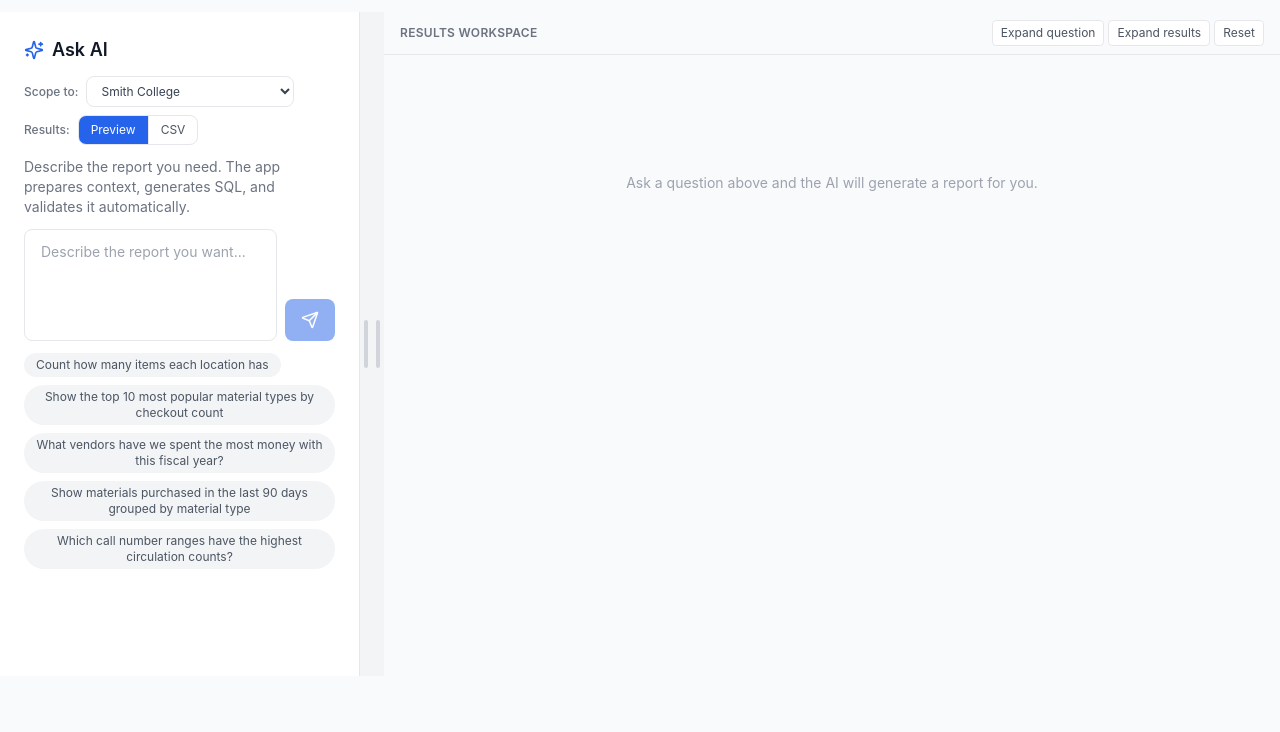
Scenario: Ask request lifecycle › replaces stale success with the typed Retry terminal UI after a rejected 403 response
This screenshot has width=1280, height=732.
Step 1. Type "Show titles" into the text box with placeholder "Describe the report you want..." → (150, 285), box top-left (24, 229), bottom-right (277, 341)
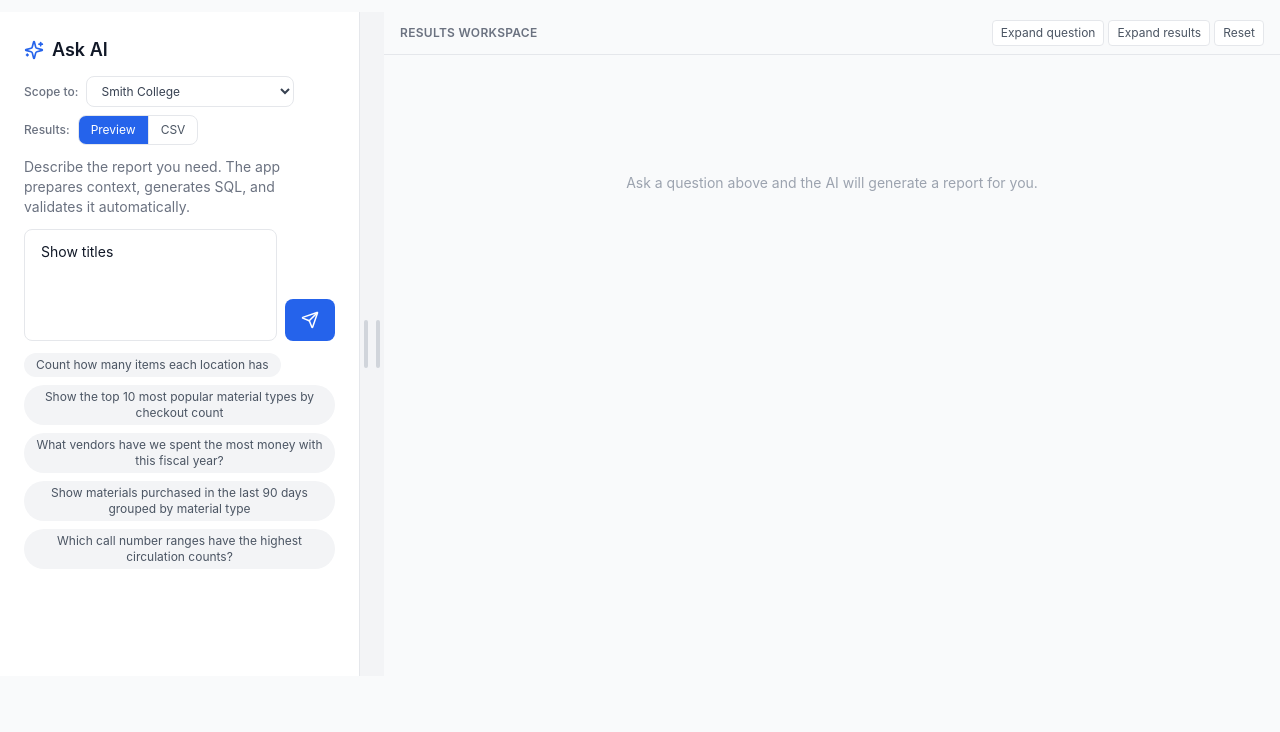
Step 2. Press Enter in the text box with placeholder "Describe the report you want...", box top-left (24, 229), bottom-right (277, 341)
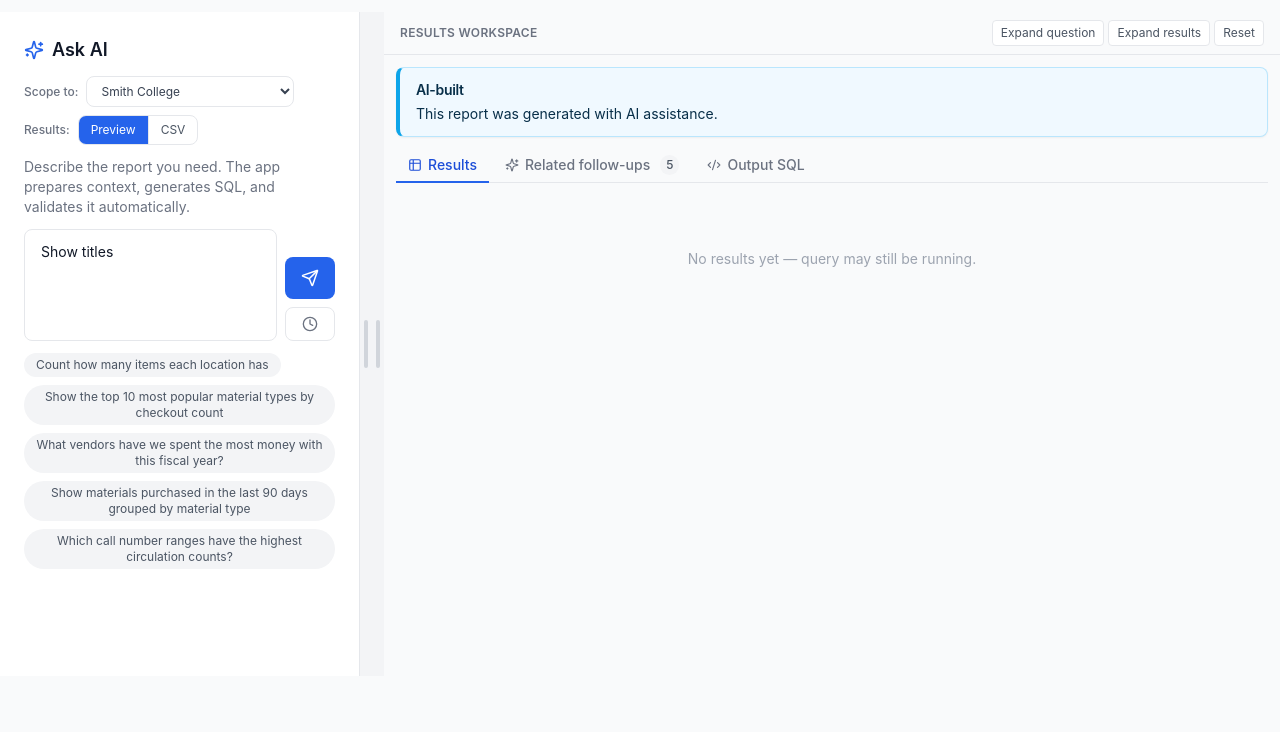
Now the heading "AI-built" is shown, box top-left (416, 81), bottom-right (464, 98)
Step 3. Replace the text in the text box with placeholder "Describe the report you want..." with "Try another report" → (150, 285), box top-left (24, 229), bottom-right (277, 341)
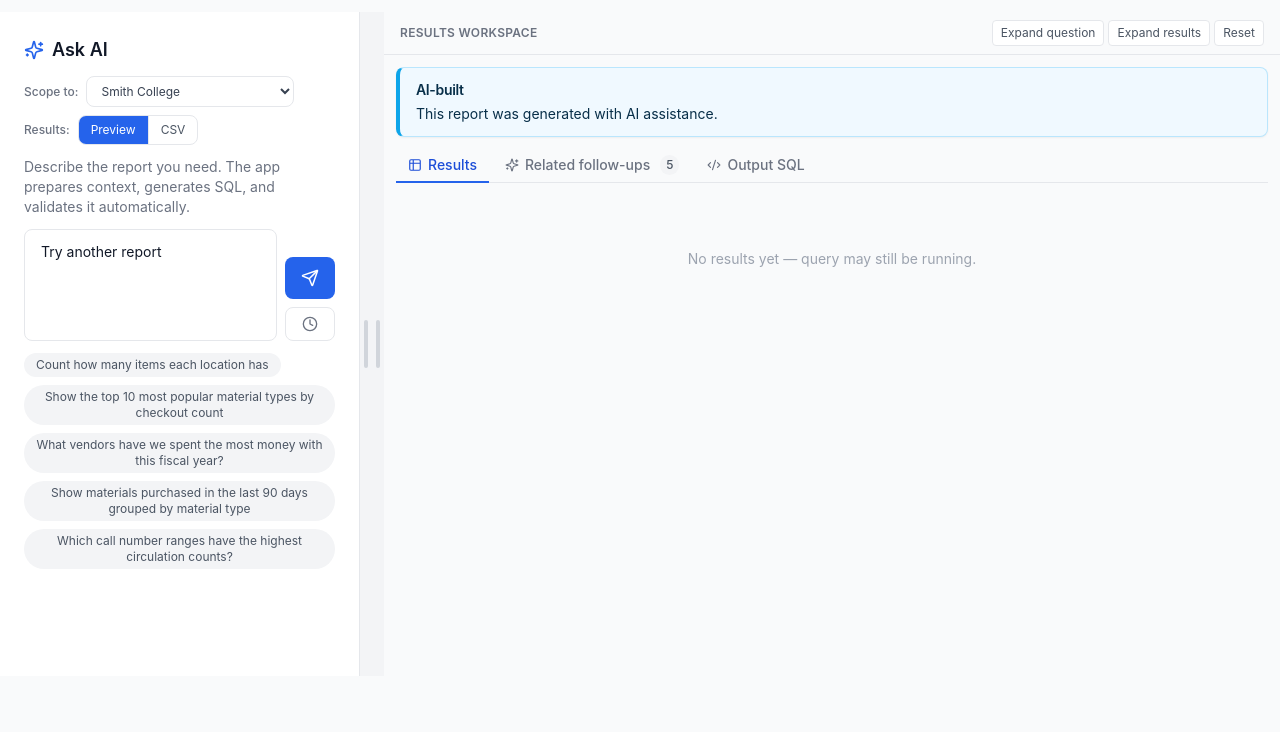
Step 4. Press Enter in the text box with placeholder "Describe the report you want...", box top-left (24, 229), bottom-right (277, 341)
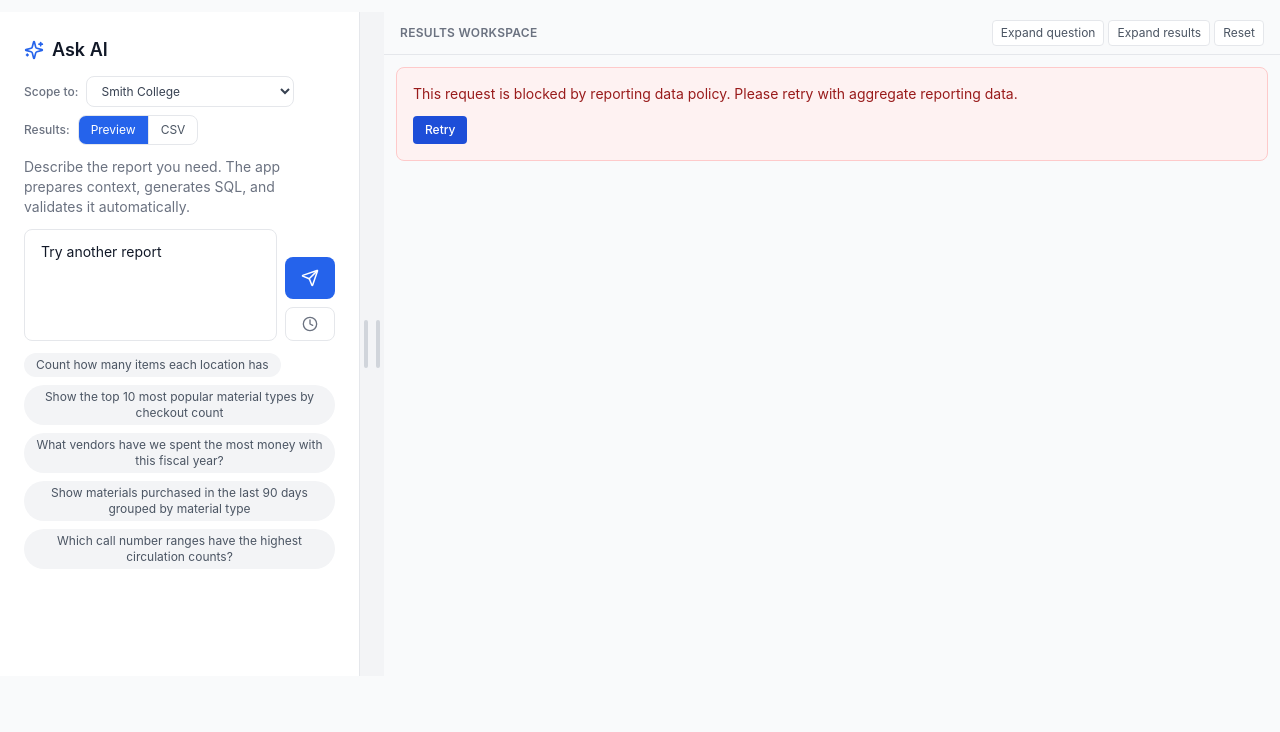
Now the message shows "retry", box top-left (413, 116), bottom-right (468, 144)
Now the heading "AI-built" is gone
